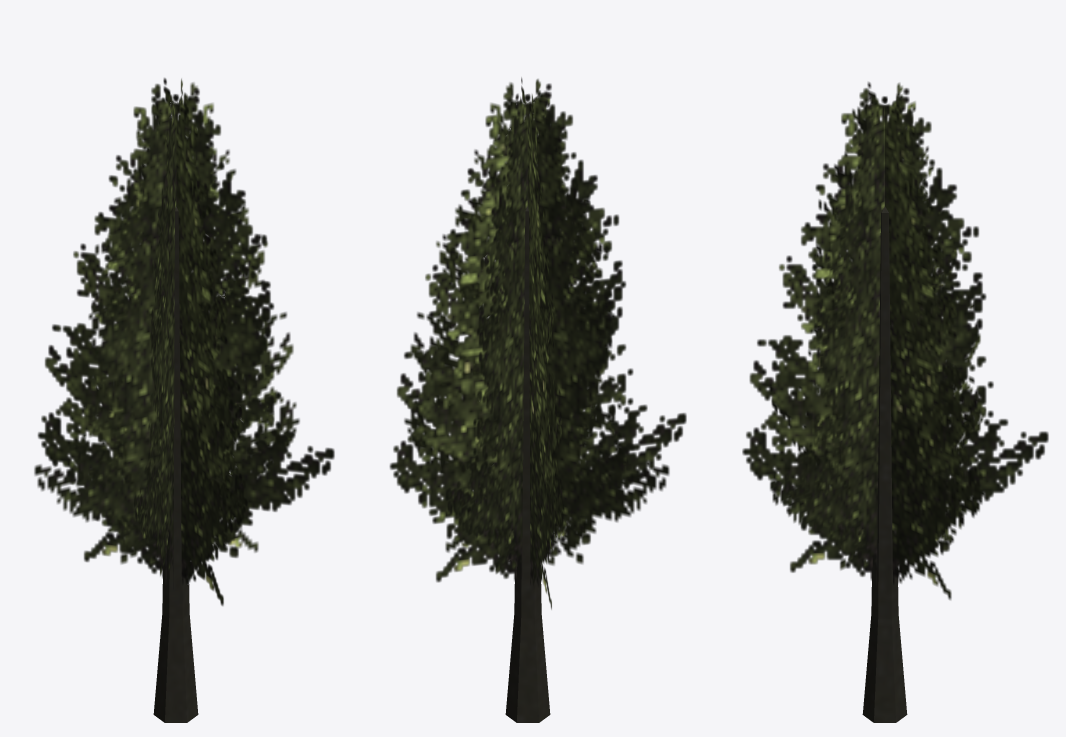
The model's file is tree1.glb.
The picture shows the model from 3 angles, left to right: view 1: azimuth 30°, elevation 25°; view 2: azimuth 150°, elevation 25°; view 3: azimuth 270°, elevation 25°; orthographic projection.
Parts seen in each view (by area): view 1: tree01; view 2: tree01; view 3: tree01.
Boxes of the visible parts, x1,y1,x2,y2 form: tree01: (34,78,334,722); tree01: (389,77,686,722); tree01: (742,82,1048,722).
Bounding box in the file's own units: 1.91 × 3.98 × 1.91.
1 material, 1 textured.
